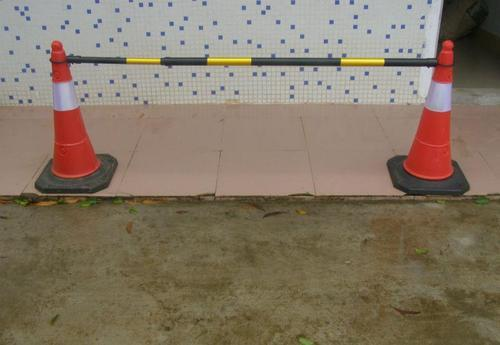sign: (39, 35, 469, 197)
